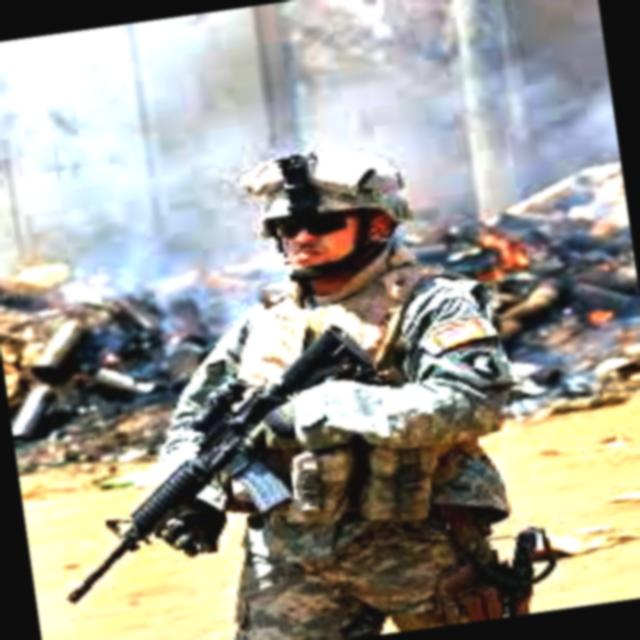m16: (12, 303, 455, 633)
